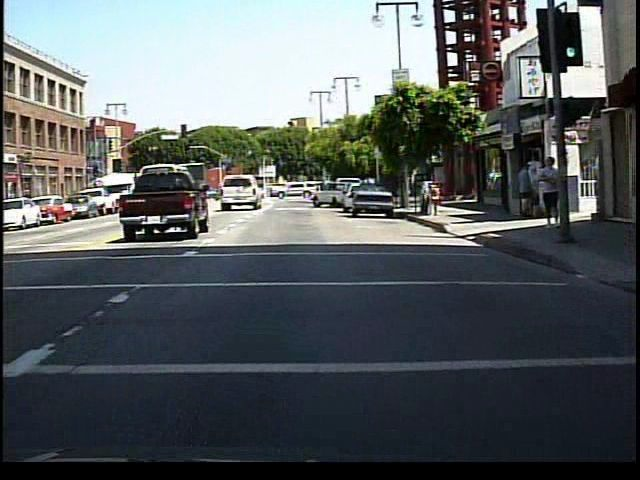person: (534, 156, 559, 231), (514, 161, 530, 222)
